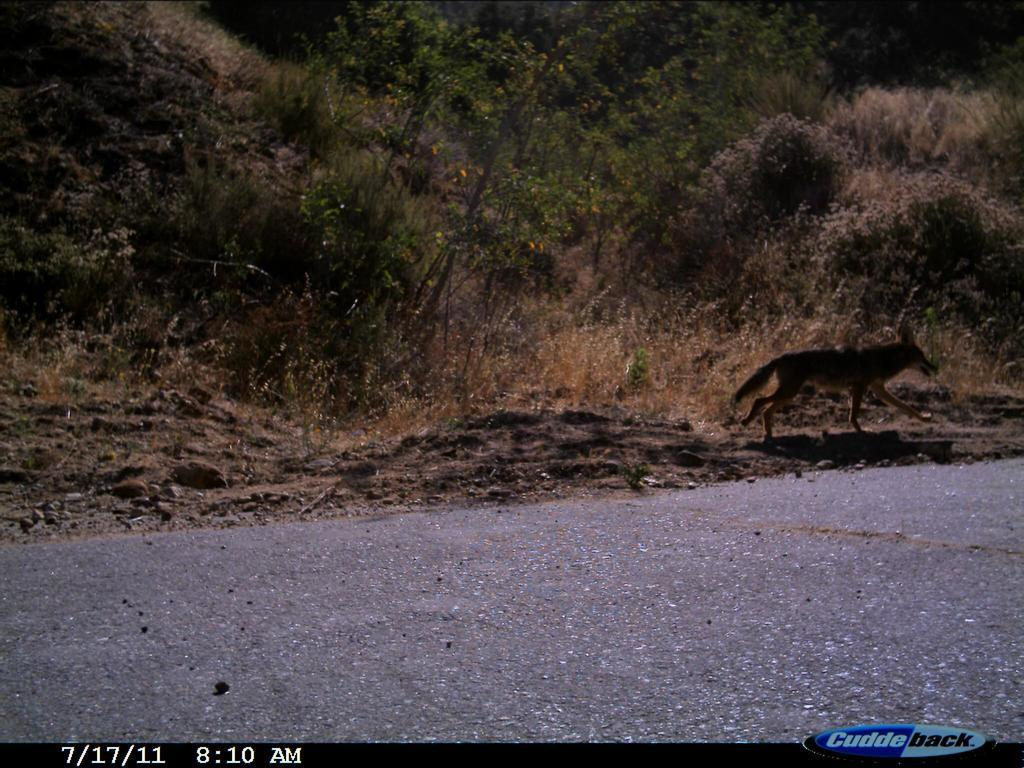coyote: (728, 322, 948, 454)
